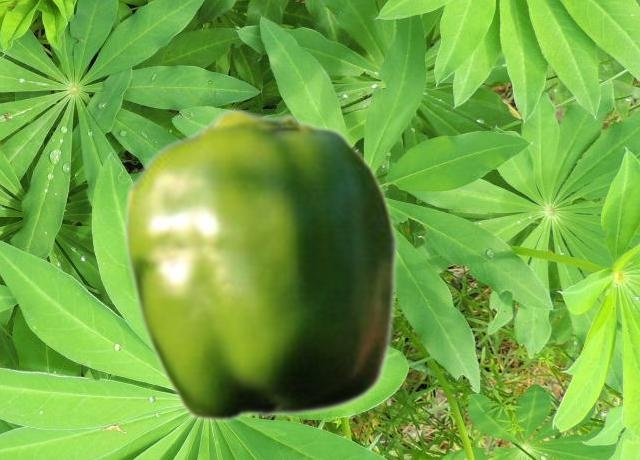bell_pepper: (123, 107, 398, 422)
